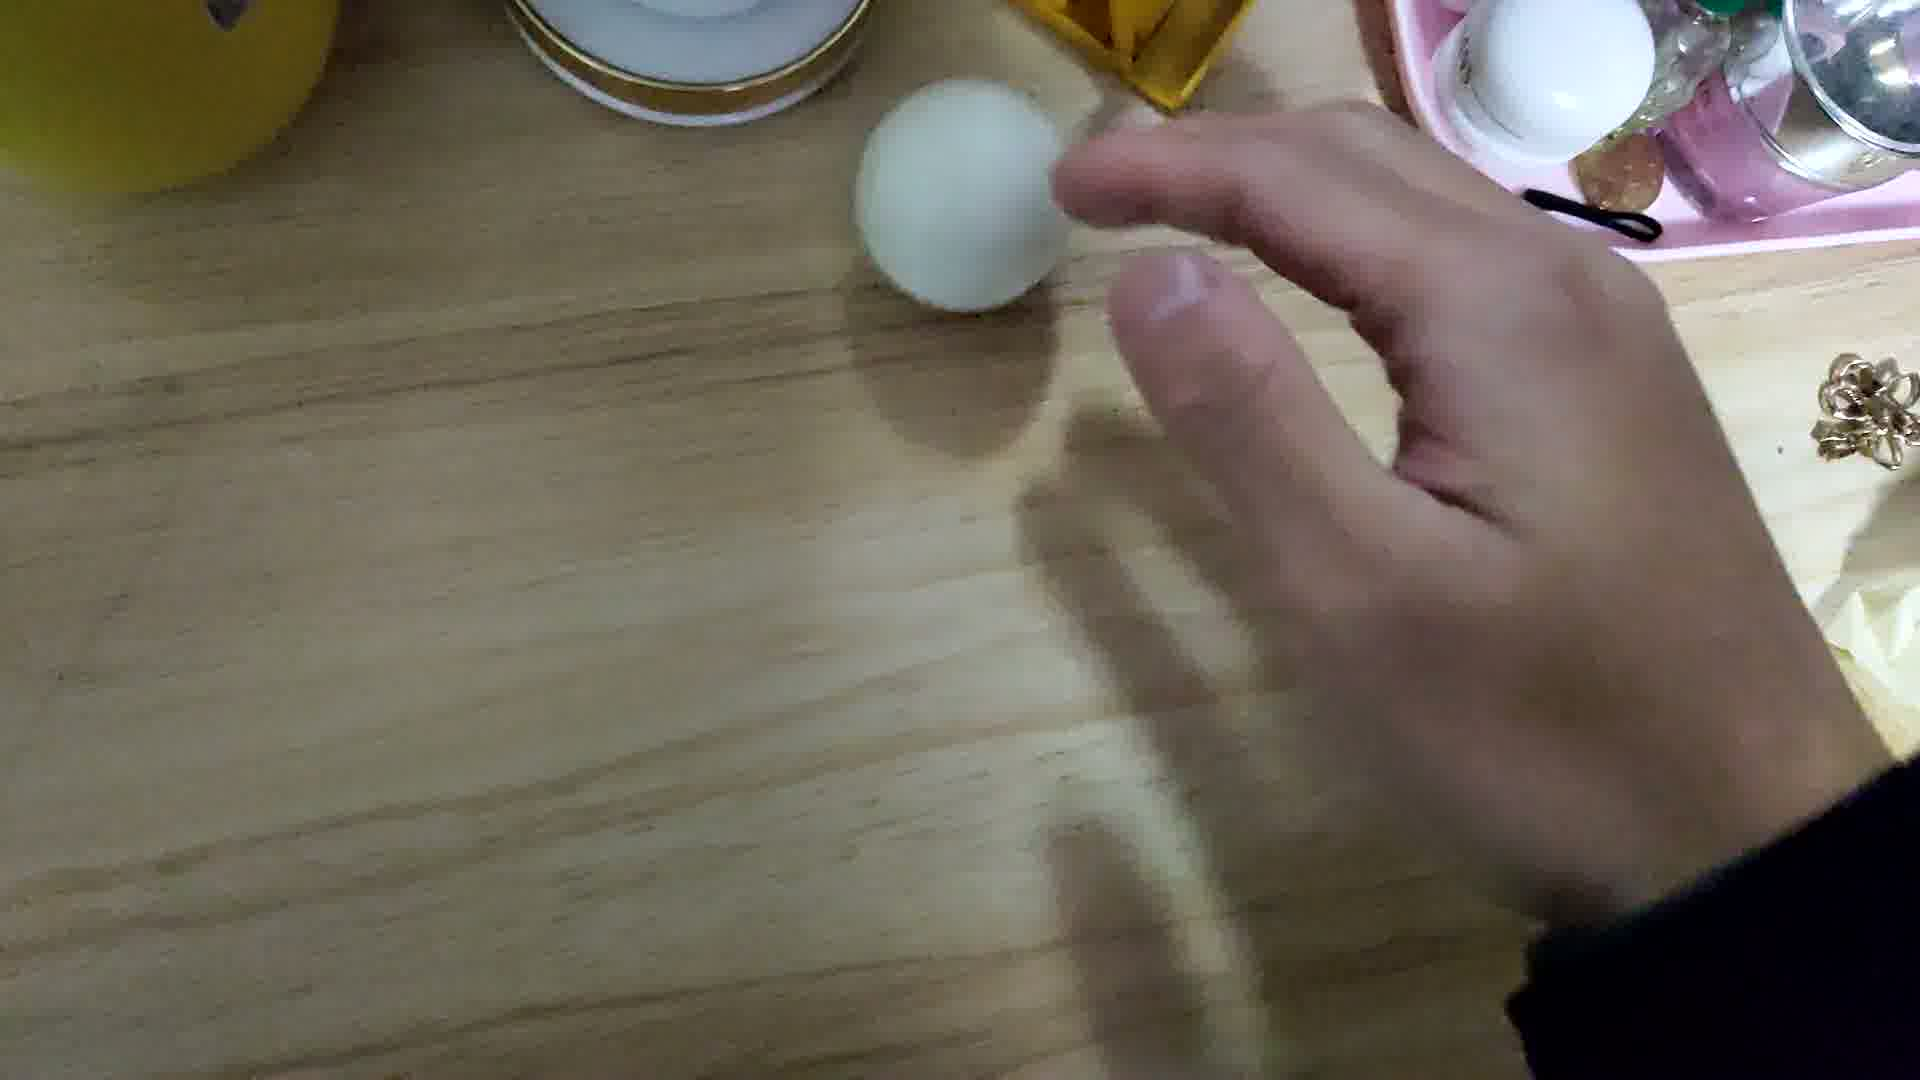Ball: (851, 74, 1077, 306)
